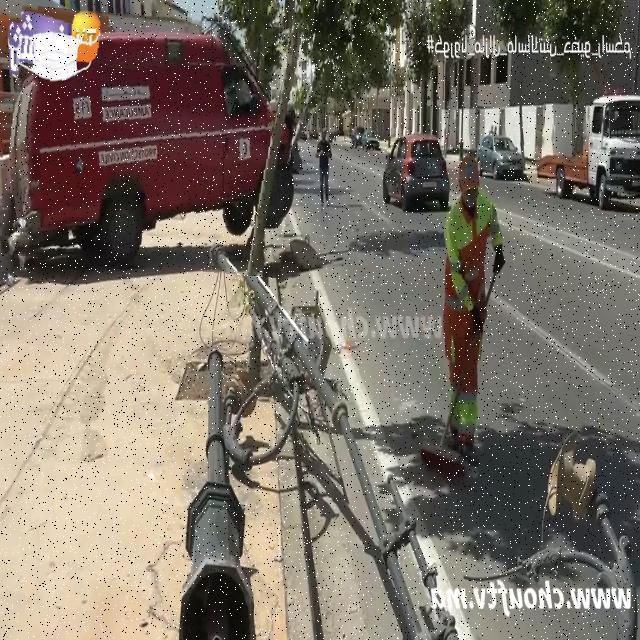ambulance: (6, 11, 297, 273)
